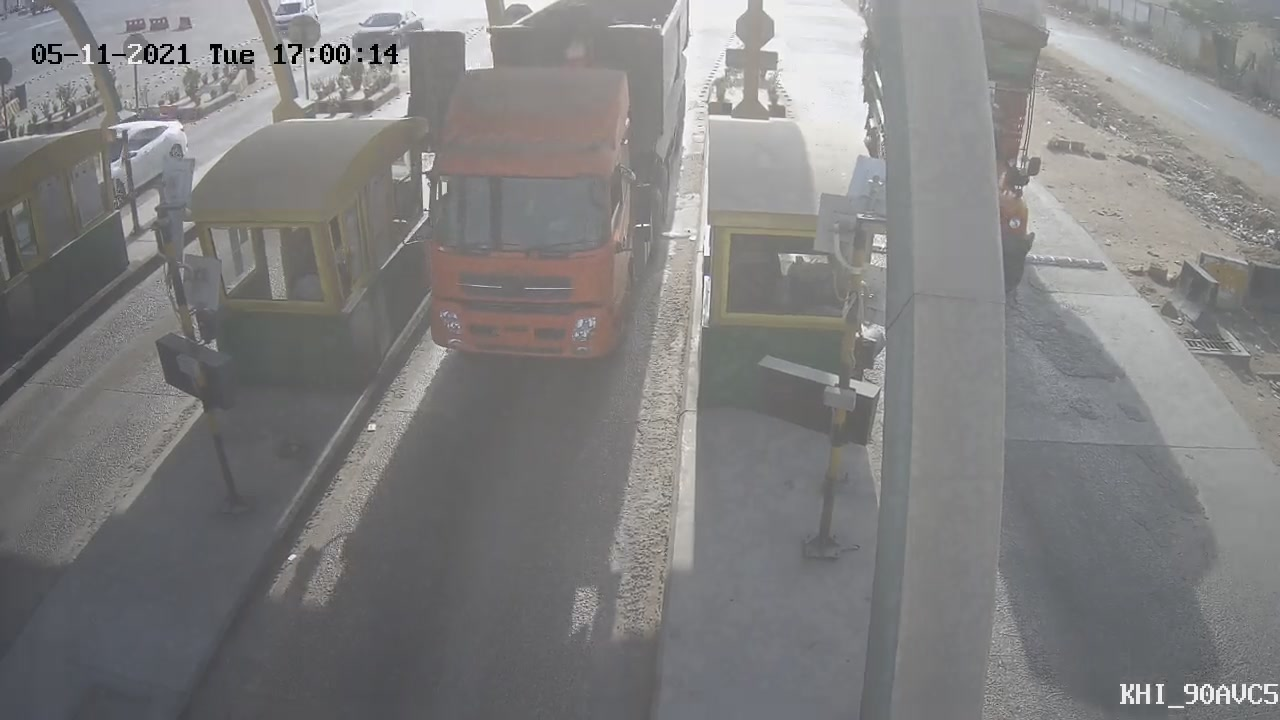F6: (374, 1, 705, 395)
